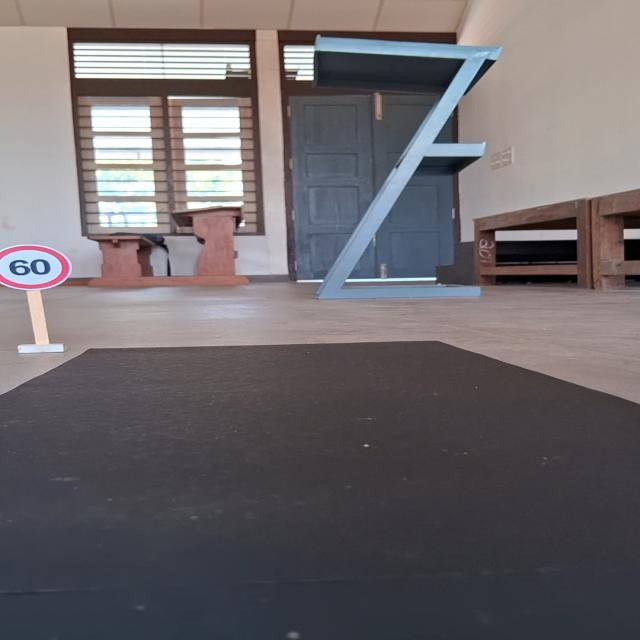Speed60: (0, 243, 72, 290)
